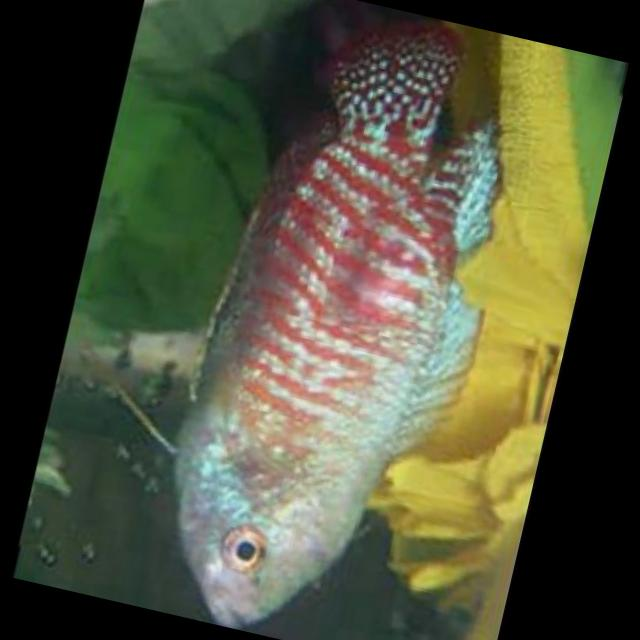Gourami: (128, 0, 543, 640)
